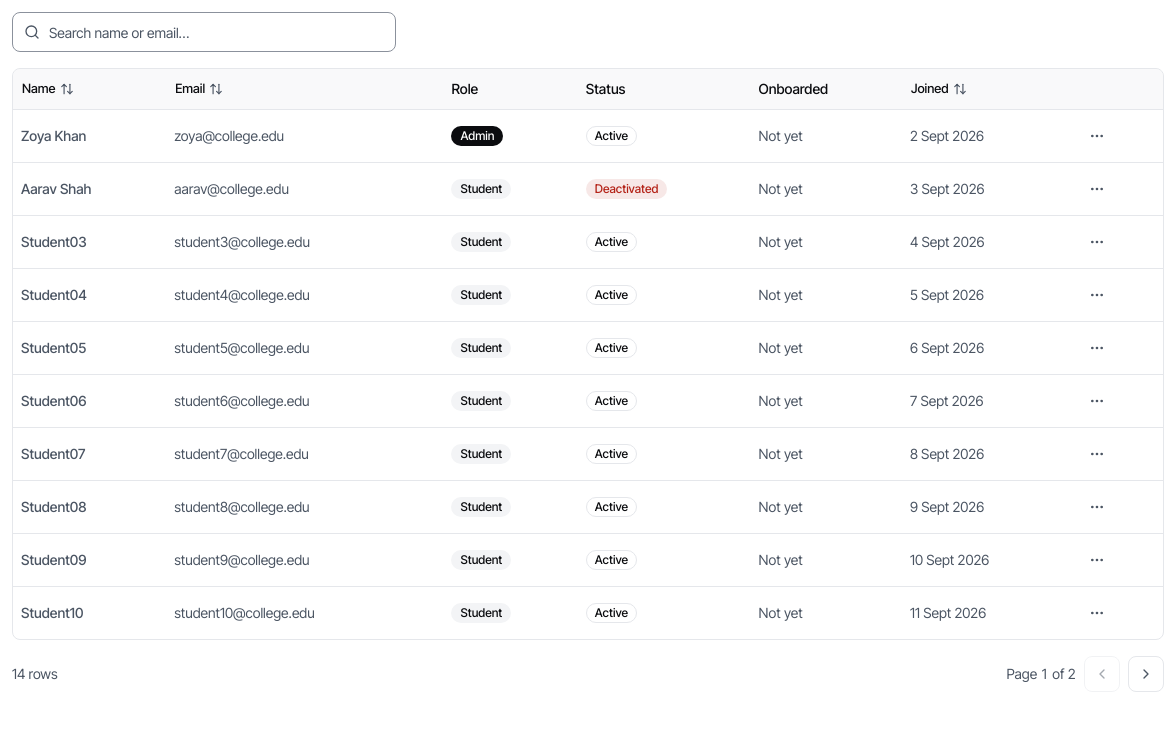
it: UsersTable › paginates 10 rows per page
This screenshot has width=1176, height=732.
Expected: the text "Page 1 of 2" is shown, [1006,664,1076,684]
Expected: the button named "Previous page" is disabled, [1084,656,1120,692]
What coordinates should you click on to do the following:
click the button named "Next page"
I would click on:
 (1146, 674)
Its box is [1128,656,1164,692].
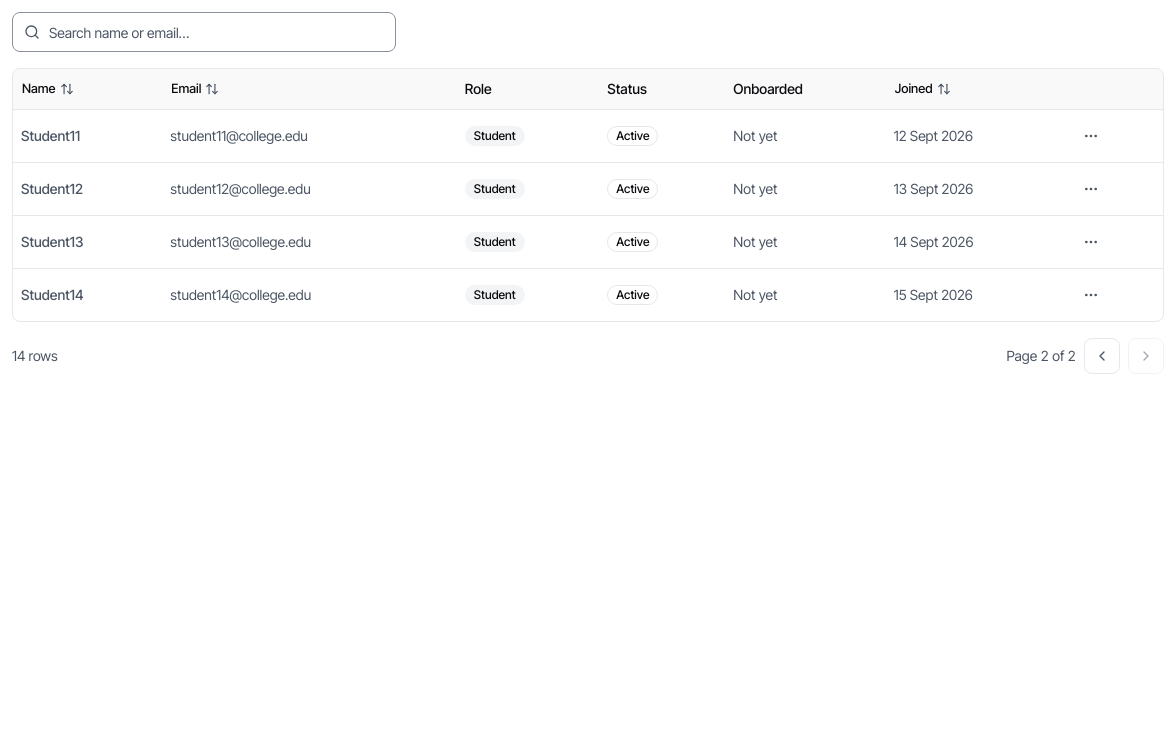
Now the text "Page 2 of 2" is shown, box [1006,346,1076,366]
